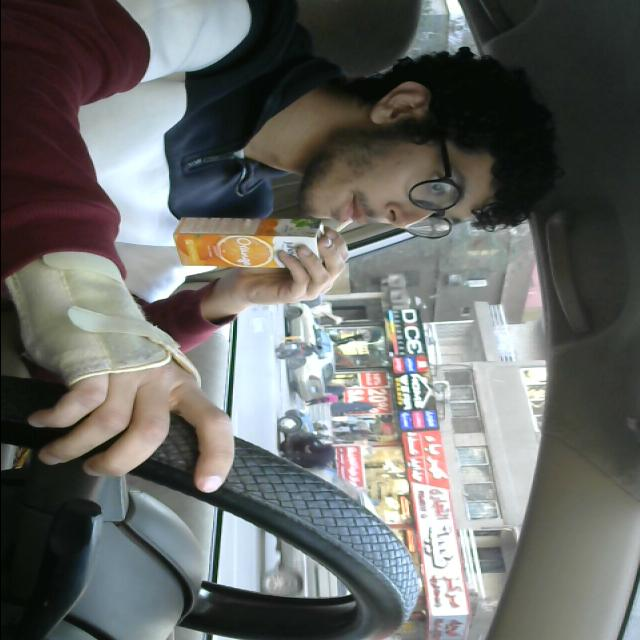drinking: (171, 207, 363, 270)
